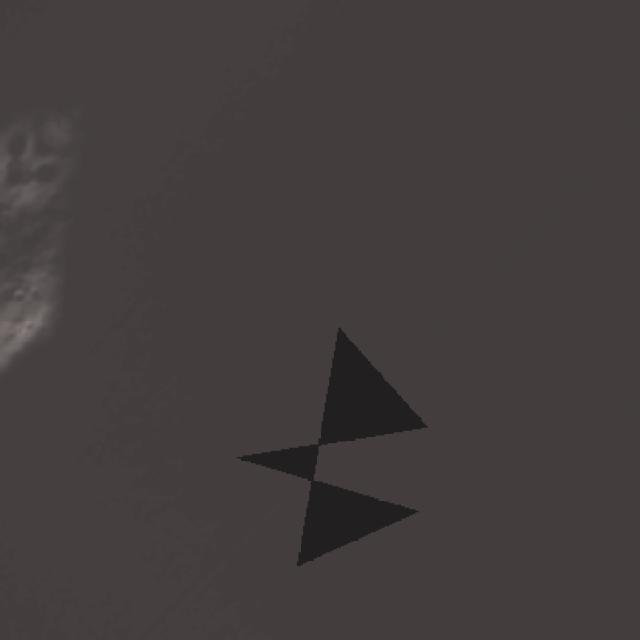crater: (24, 150, 67, 195), (9, 285, 31, 306)
